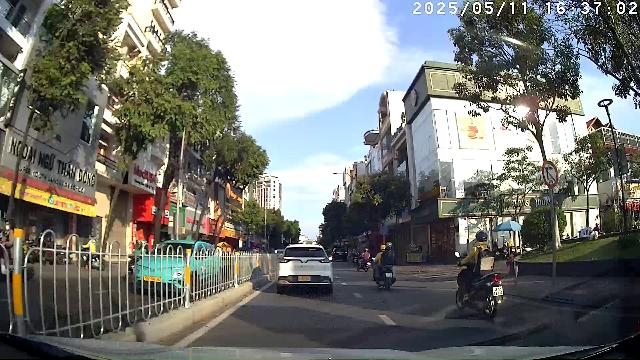103b-cam-oto-re-phai: (542, 161, 559, 188)
